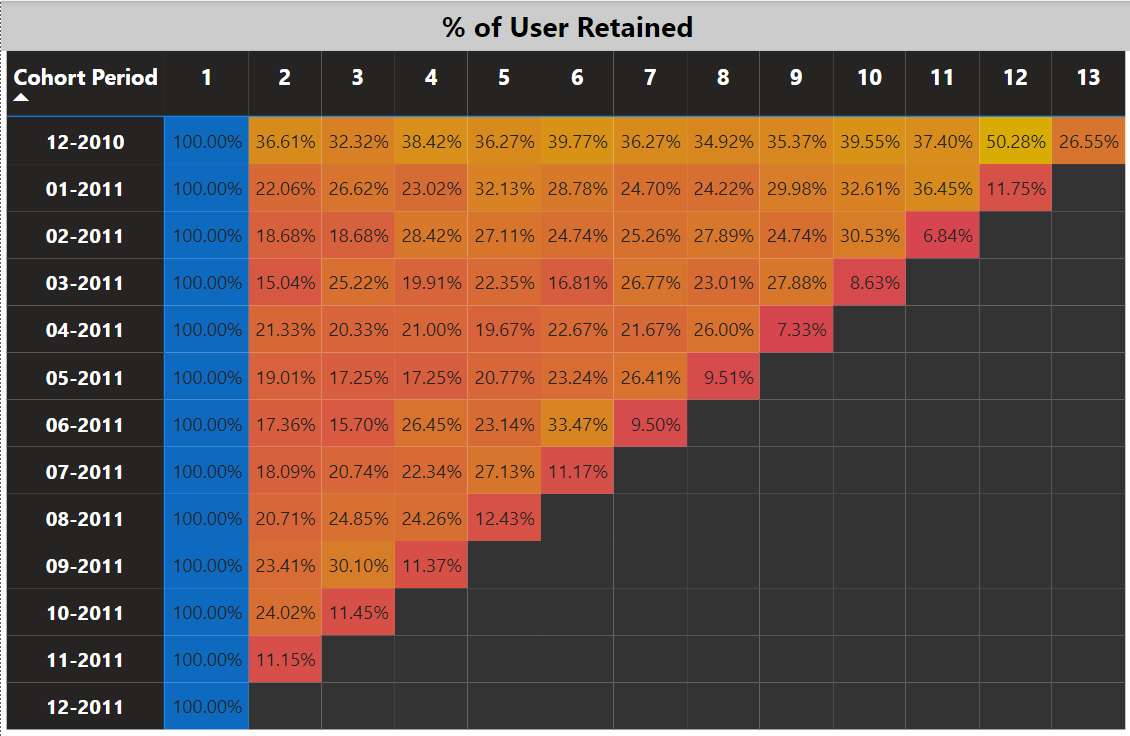

Layout of this report page (visuals, bound fields, positions):
{"tool":"powerbi","page":{"name":"% User Retention","canvas":[960,625],"ordinal":0},"visuals":[{"type":"pivotTable","title":"% of User Retained","fields":{"Rows":["cohort_user_retention.cohort"],"Columns":["cohort_user_retention.cohort_index"],"Values":["cohort_user_retention.Percent Of Total Customers"]},"box":[0,0,962,624.7],"z":0}]}

Visuals, with their boxes in screenshot pixels (x1, y1, x2, y2), scaled from the page's 960x625 canvas onto the 1130x736 screenshot:
"% of User Retained" pivotTable: 0/0/1129/735
